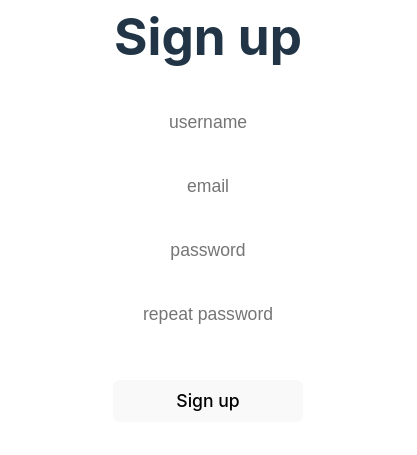
Test: SignUp component › shows validation error when username is empty
Click the button with test id "register-submit" at (208, 401), box [112, 379, 304, 423]
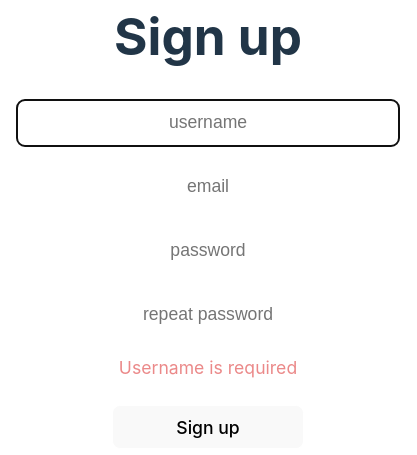
Result: the text with test id "username-error" reads "Username is required" at [119, 357, 297, 378]
